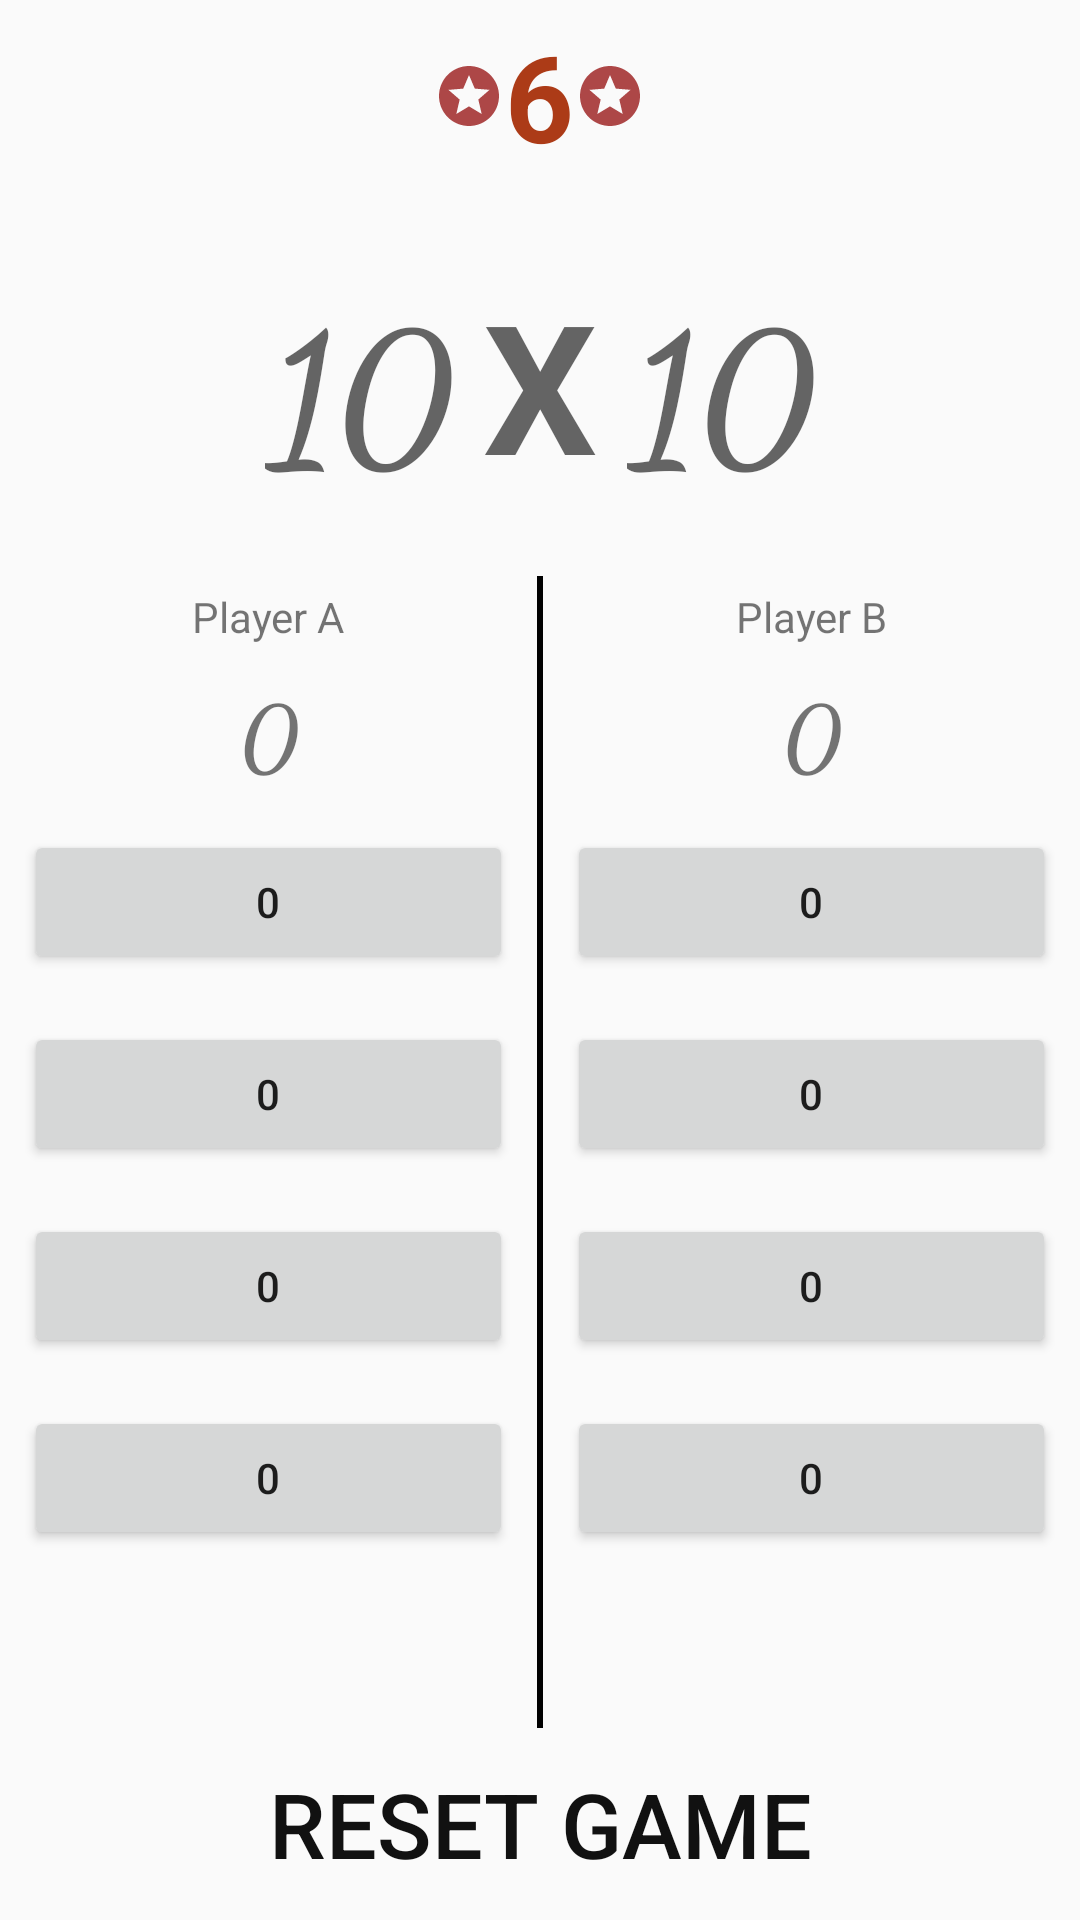

Where icons sit on this 1080px x 1920px app screen, as {"x1": x1, "y1": y1, "x2": x2, "y2": y2}:
stars: {"x1": 439, "y1": 66, "x2": 499, "y2": 126}, {"x1": 580, "y1": 66, "x2": 640, "y2": 126}
